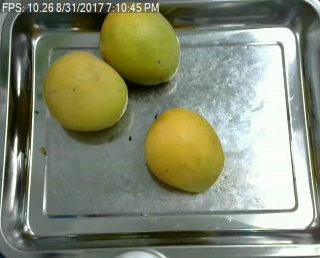Mango: (138, 102, 229, 195), (40, 46, 132, 134), (97, 9, 178, 83)
